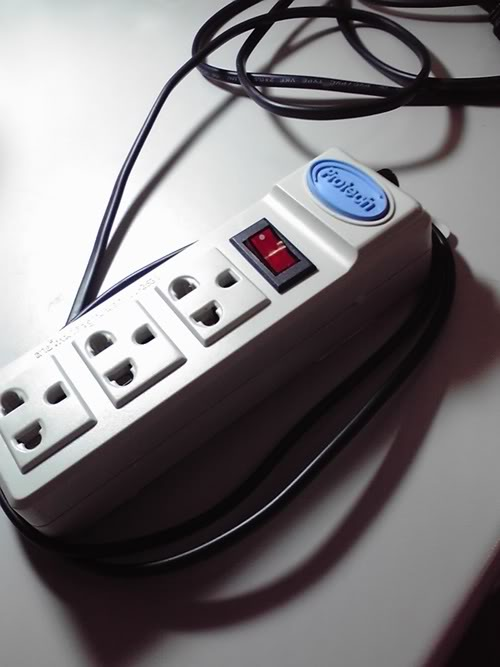Three_eye_plug: (1, 141, 438, 541)
